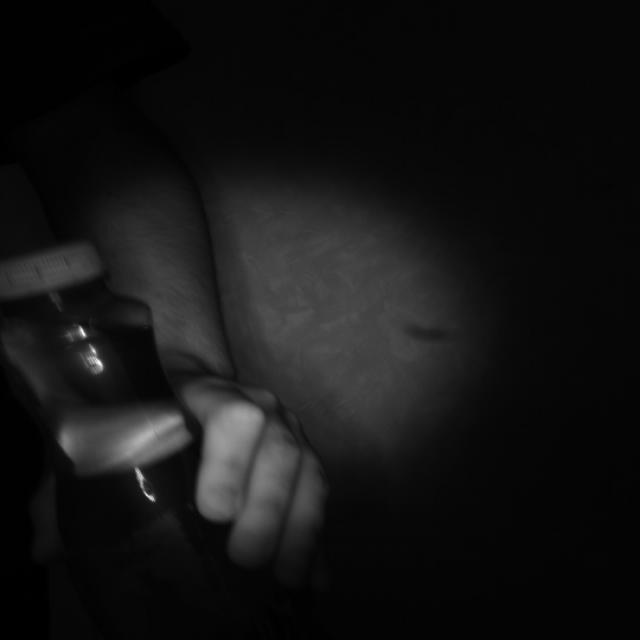Good: (0, 240, 106, 302)
